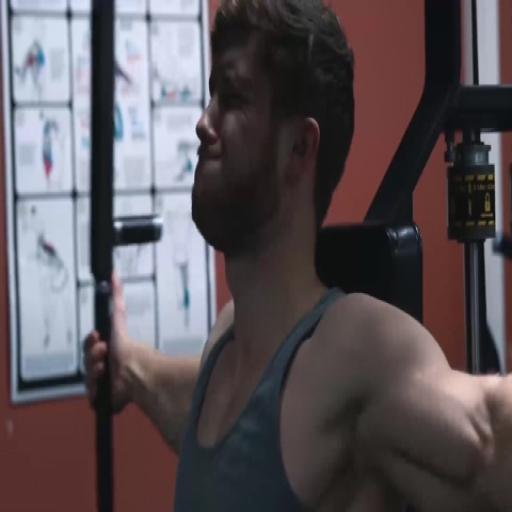exercise: (81, 0, 511, 511)
